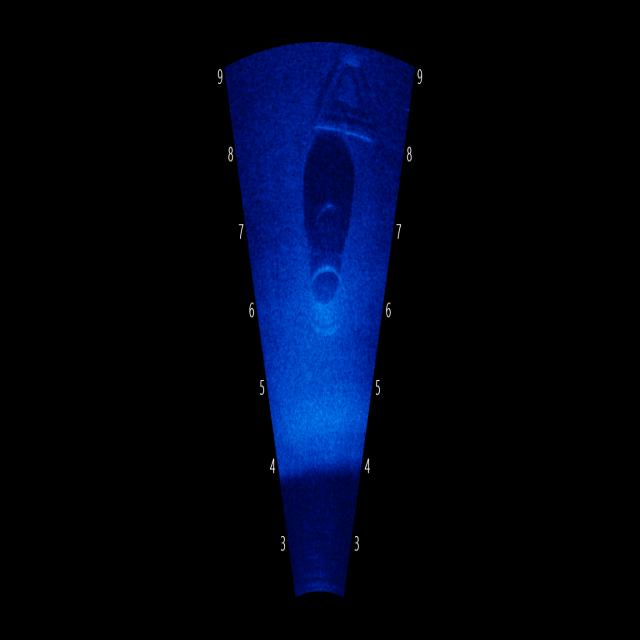circle: (287, 217, 356, 362)
triangle: (293, 40, 391, 168)
